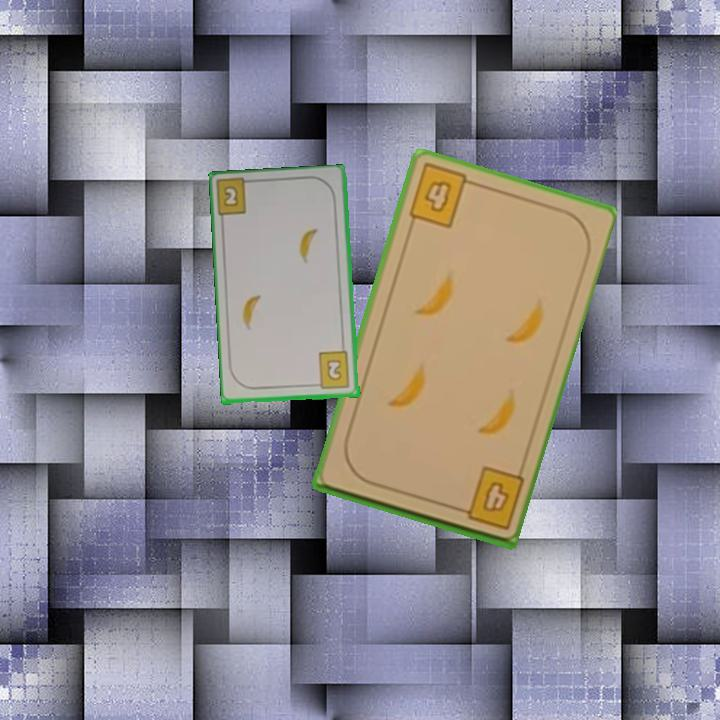2b: (311, 349, 353, 392), (220, 182, 241, 210)
4b: (450, 463, 527, 533), (404, 161, 479, 231)
